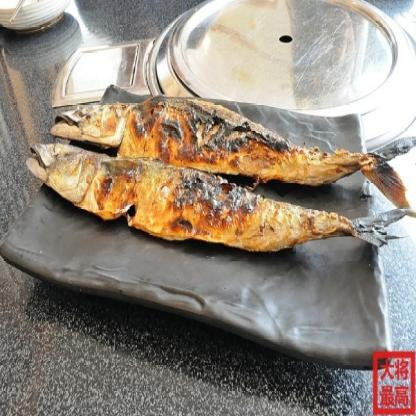Peixe: (21, 89, 409, 258)
